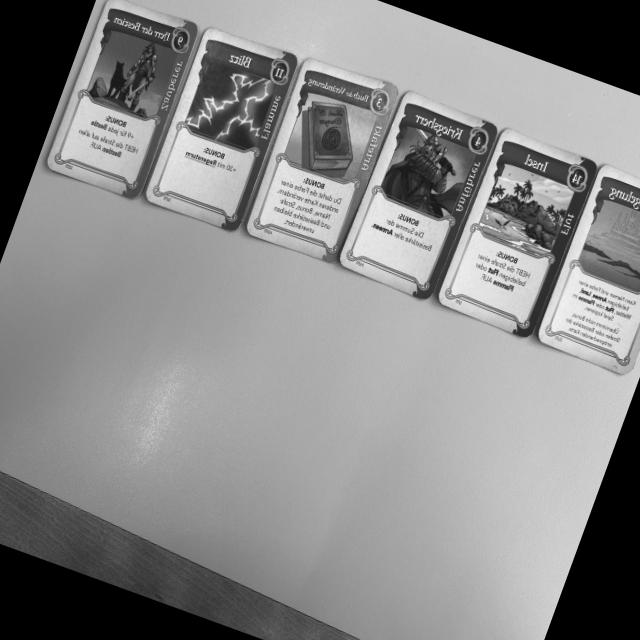Beast Master: (43, 0, 200, 208)
Book Of Changes: (240, 58, 401, 277)
Island: (435, 122, 599, 343)
Lightning: (141, 26, 302, 234)
Mirage: (535, 162, 640, 383)
Warlord: (335, 91, 499, 314)
